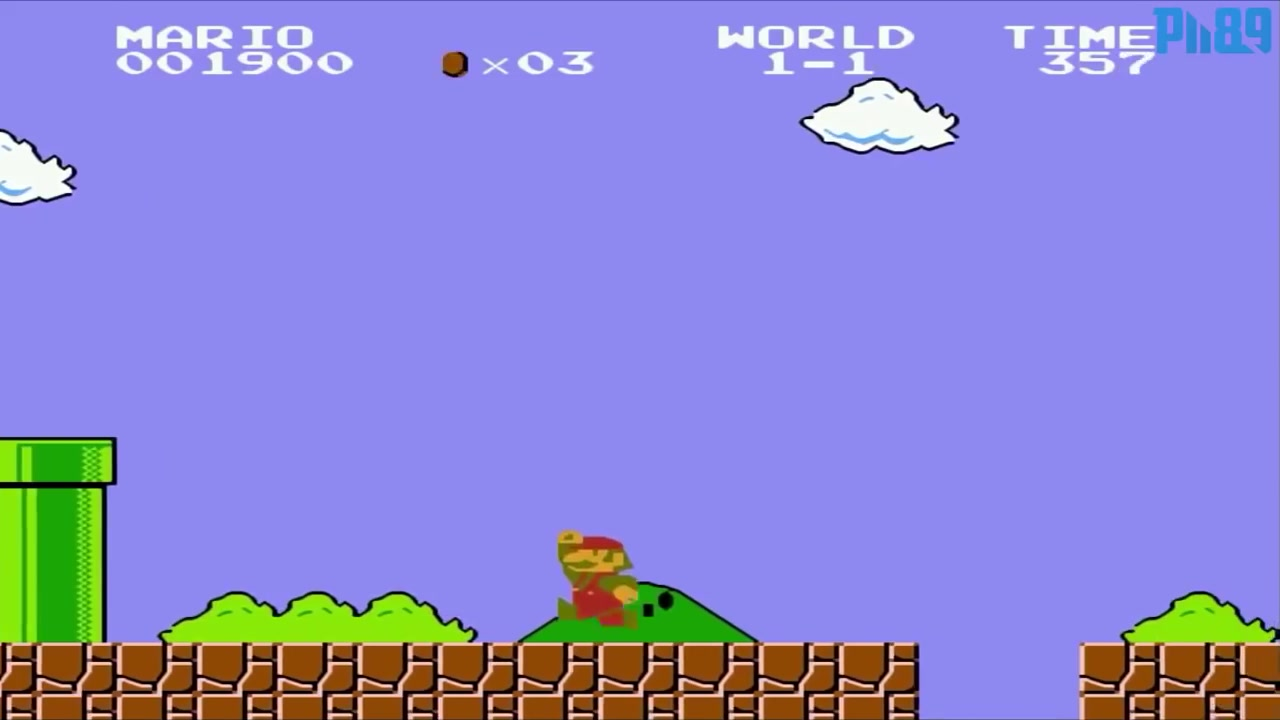mario: (543, 525, 644, 630)
